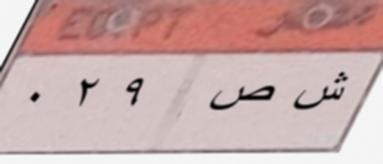0: (26, 84, 44, 111)
2: (70, 72, 105, 111)
9: (124, 74, 148, 111)
saad: (208, 80, 277, 121)
sheen: (291, 70, 351, 117)
